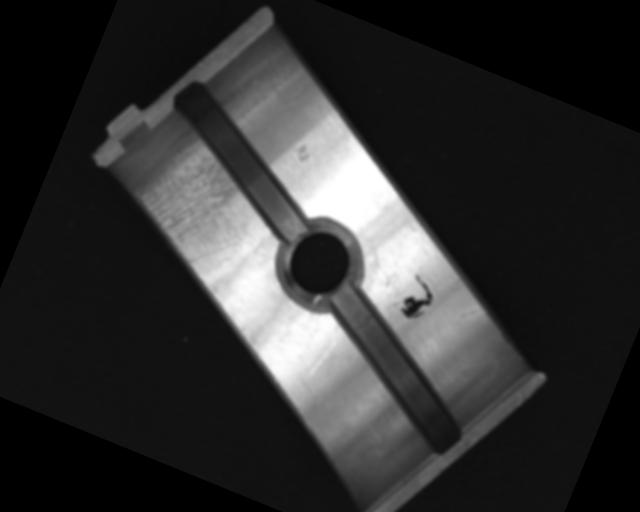blot: (395, 271, 441, 327)
bruise: (290, 138, 316, 164)
gap: (295, 284, 501, 460), (142, 77, 339, 242)
hole: (265, 208, 377, 321)
nick: (305, 336, 335, 384)
scratch: (116, 130, 275, 287)
